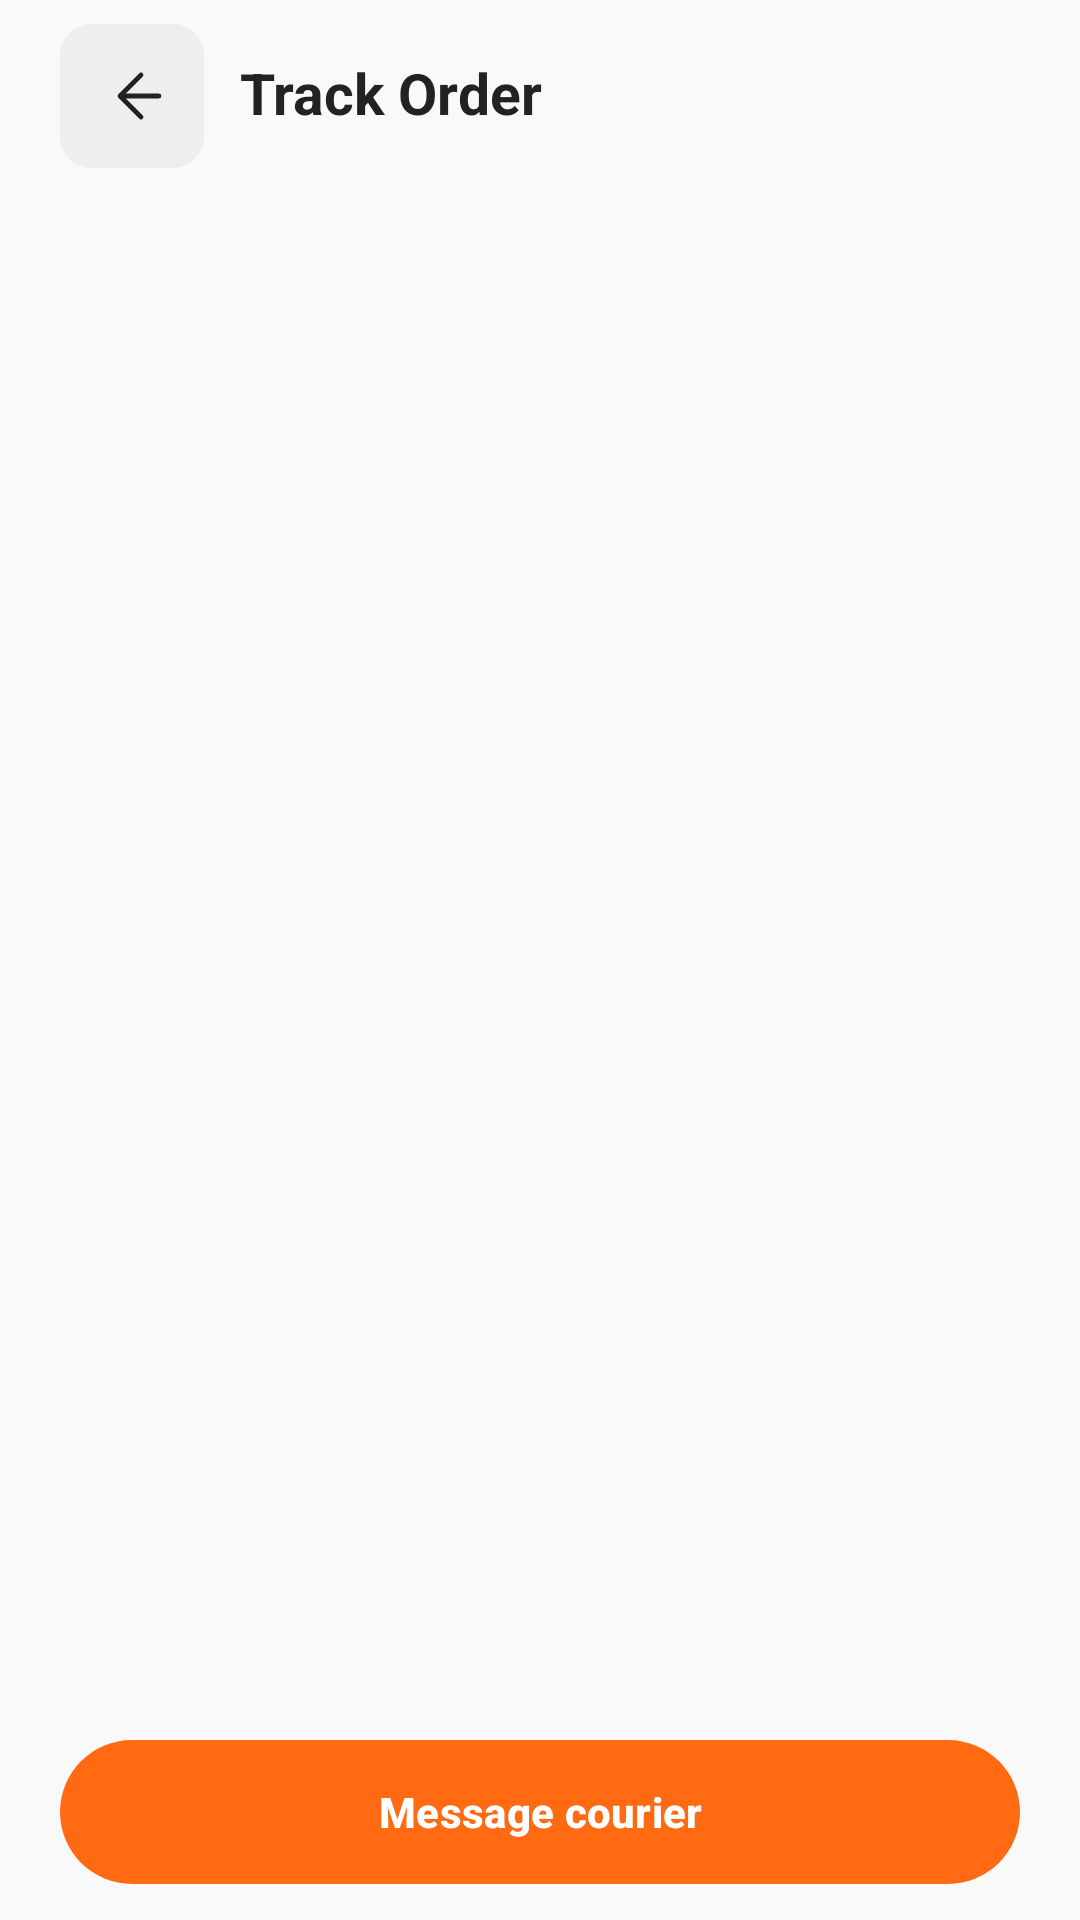

Where to tap for icons on this 1080px x 1920px app screen, as (x,y):
Back: (132,96)
